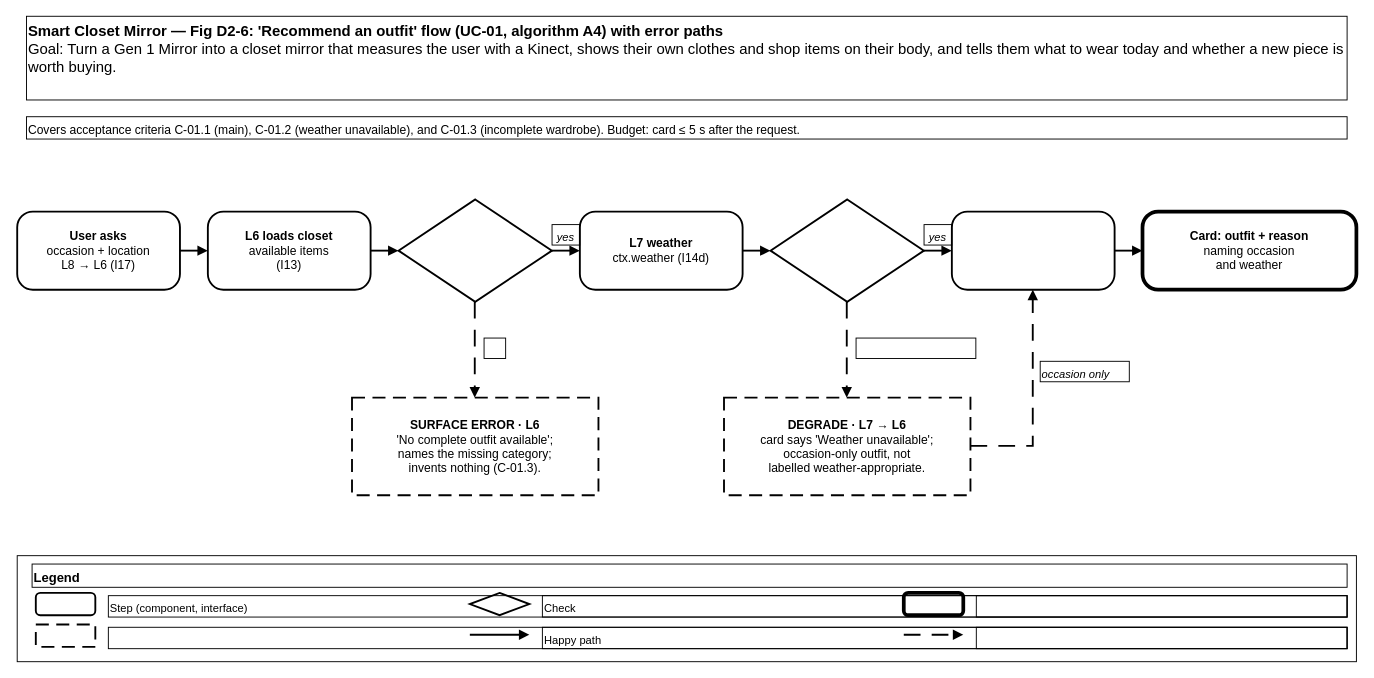
Image size: 1374x678. Some labels were removed from this diagram. Each missing label, with the box of its shape:
Error outcome: decided behaviour · handler: (107, 626, 1347, 649)
Error path: (975, 626, 1347, 649)
L6 picks outfit algorithm A4: (950, 210, 1115, 290)
no: (483, 337, 506, 359)
no / provider down: (855, 337, 976, 359)
Successful end: (975, 595, 1347, 617)
Top, bottom and shoes?: (397, 198, 552, 302)
Weather ≤ 60 min old?: (769, 198, 924, 302)
